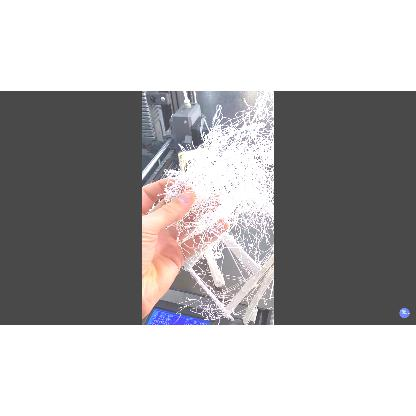fail: (176, 142, 272, 233), (206, 238, 274, 314)
